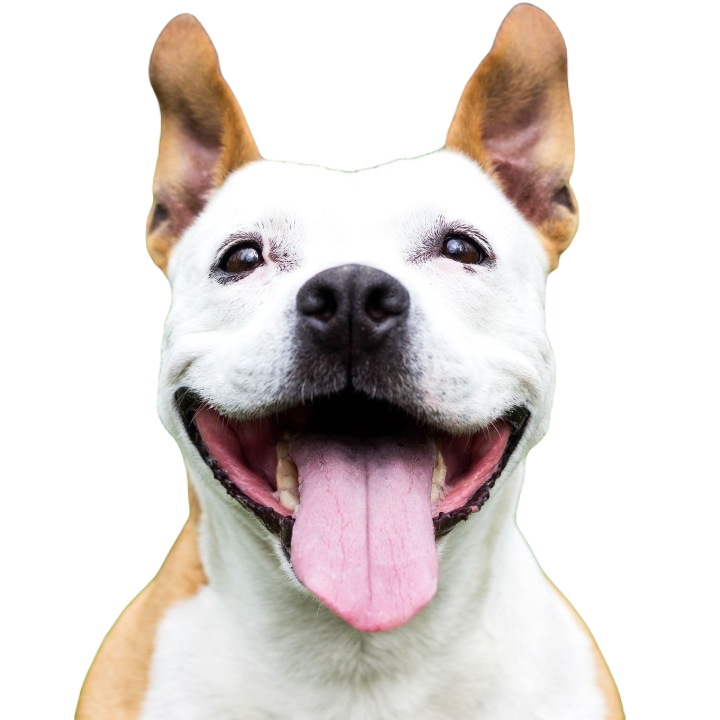Dog: (71, 3, 620, 719)
